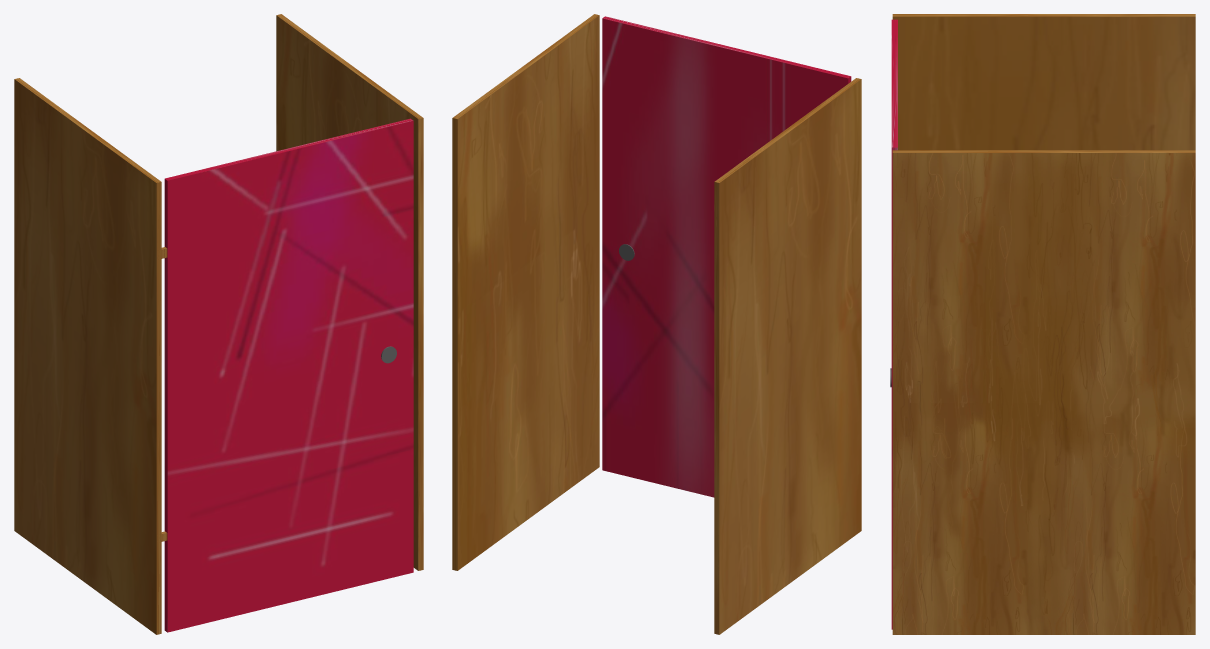
The model's file is cubicle closed.fbx.
3 views of the same model, side by side, from view 1: azimuth 30°, elevation 25°; view 2: azimuth 150°, elevation 25°; view 3: azimuth 270°, elevation 25° (orthographic). The views are drawn at different scales.
Visible parts, largest first — view 1: pCylinder26; view 2: pCylinder26; view 3: pCylinder26.
Boxes of the visible parts, box(x1,y1,x2,y2) form: pCylinder26: box(14, 14, 423, 634); pCylinder26: box(452, 14, 861, 634); pCylinder26: box(890, 14, 1195, 634).
Bounding box in the file's own units: 10.85 × 17.55 × 10.07.
Materials: 3 (2 with a texture image).
